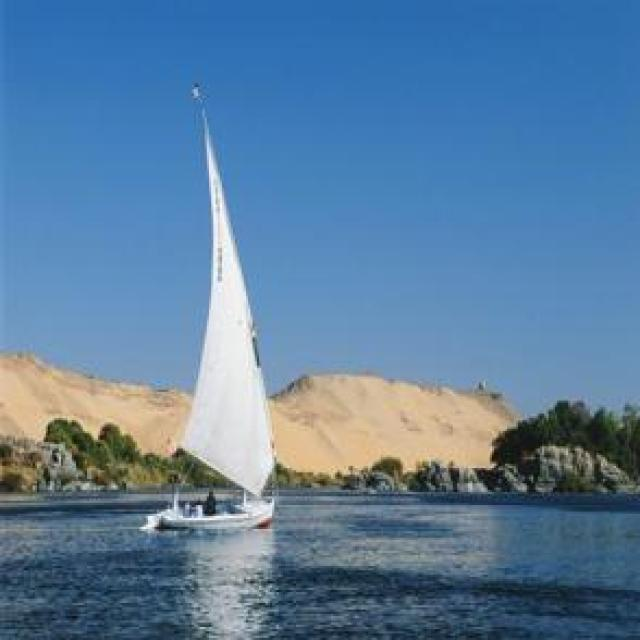sailboat: (141, 82, 286, 529)
